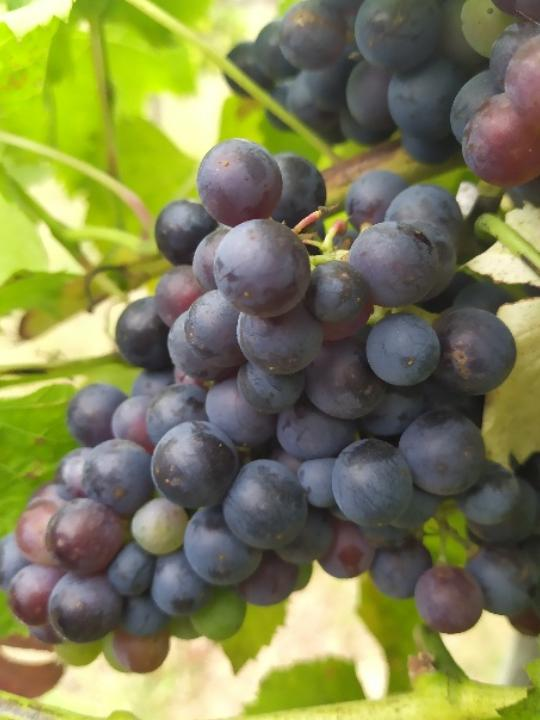grape: (0, 142, 519, 676)
